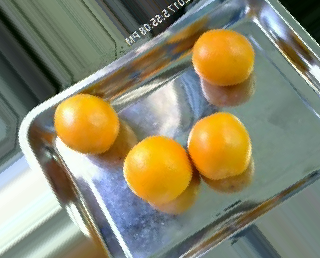Orange: (122, 133, 194, 204), (186, 110, 251, 180), (53, 93, 119, 153), (191, 27, 256, 86)
